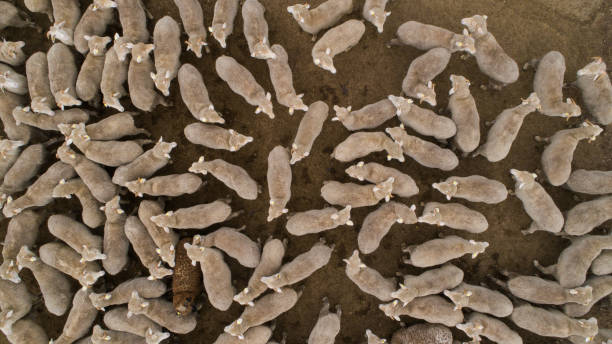sheep: (480, 93, 557, 161), (1, 160, 90, 214), (35, 207, 110, 270), (463, 10, 523, 88), (177, 243, 241, 315), (506, 299, 607, 344), (506, 267, 602, 314), (329, 250, 405, 305), (544, 122, 605, 190), (356, 202, 430, 256), (188, 159, 269, 208), (392, 124, 468, 176), (391, 16, 480, 60), (1, 137, 56, 206), (513, 167, 566, 238), (188, 232, 268, 279), (307, 23, 369, 83), (235, 236, 287, 306), (257, 43, 313, 108), (106, 1, 164, 62), (399, 231, 496, 267), (260, 243, 329, 293), (104, 138, 180, 183), (61, 149, 118, 209), (46, 42, 91, 117), (88, 275, 179, 312), (62, 128, 141, 170), (23, 252, 79, 311), (403, 47, 457, 108), (447, 77, 487, 159), (223, 290, 303, 331), (537, 44, 579, 122), (397, 92, 459, 144), (553, 230, 605, 291), (149, 18, 191, 92), (176, 61, 225, 124), (377, 294, 468, 327), (35, 238, 103, 282), (457, 275, 518, 324), (391, 266, 474, 302), (126, 215, 167, 287), (77, 34, 119, 104), (57, 284, 106, 344), (345, 160, 416, 201), (22, 49, 66, 115), (99, 202, 138, 276), (285, 1, 362, 38), (90, 307, 166, 344), (571, 57, 612, 124), (328, 127, 398, 166), (116, 296, 195, 330), (559, 190, 609, 243), (180, 122, 257, 156), (263, 149, 302, 215), (97, 41, 130, 118), (51, 116, 144, 143), (124, 176, 207, 206), (420, 205, 490, 240), (332, 99, 411, 130), (241, 1, 278, 66), (150, 205, 242, 231), (1, 222, 47, 272), (439, 171, 506, 205), (296, 97, 329, 166), (173, 1, 210, 60), (287, 207, 355, 238), (74, 1, 113, 51), (1, 62, 24, 146), (129, 37, 153, 116), (460, 309, 510, 344), (327, 182, 389, 210), (62, 184, 98, 230), (53, 1, 80, 55), (207, 1, 235, 50), (574, 172, 612, 195)
